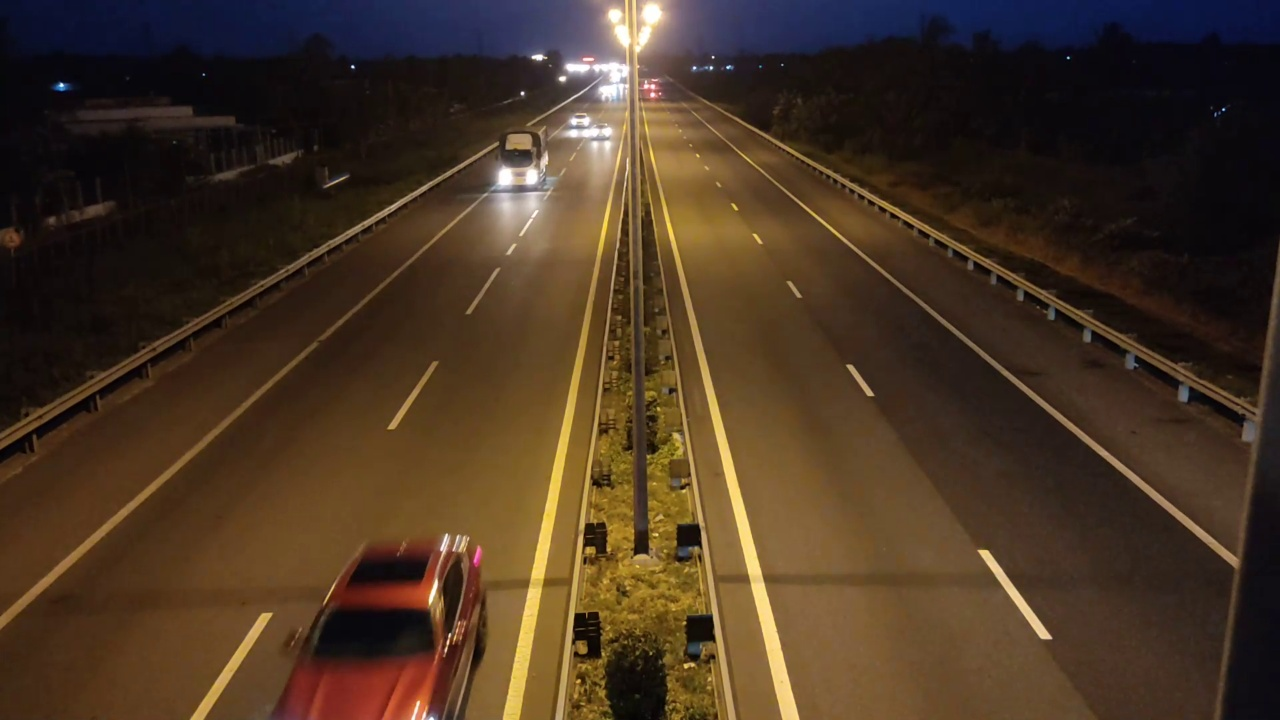car: (267, 533, 487, 719)
truck: (491, 122, 554, 197)
